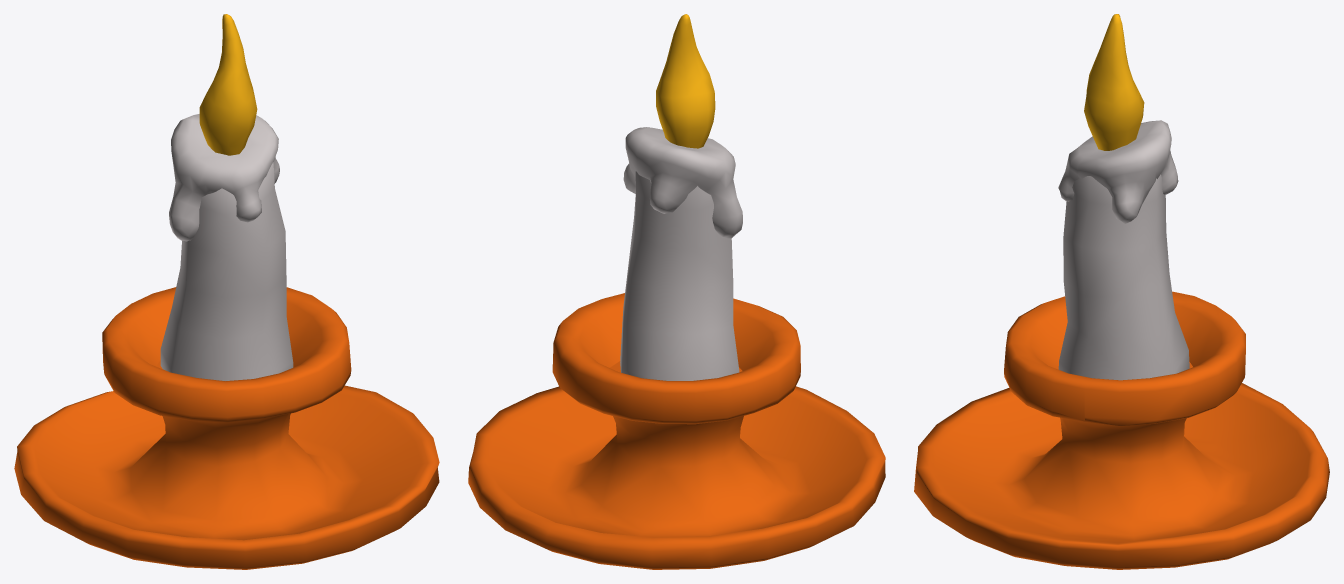
Rendered from CANDLE_001.fbx.
The picture shows the model from 3 angles, left to right: view 1: azimuth 30°, elevation 25°; view 2: azimuth 150°, elevation 25°; view 3: azimuth 270°, elevation 25°; orthographic projection.
Visible parts, largest first — view 1: CANDLE_001; view 2: CANDLE_001; view 3: CANDLE_001.
Part boxes in pixels (x1=…): CANDLE_001: x1=14, y1=14, x2=439, y2=569; CANDLE_001: x1=468, y1=14, x2=885, y2=569; CANDLE_001: x1=914, y1=14, x2=1329, y2=569.
Bounding box in the file's own units: 0.2179 × 0.2779 × 0.2175.
